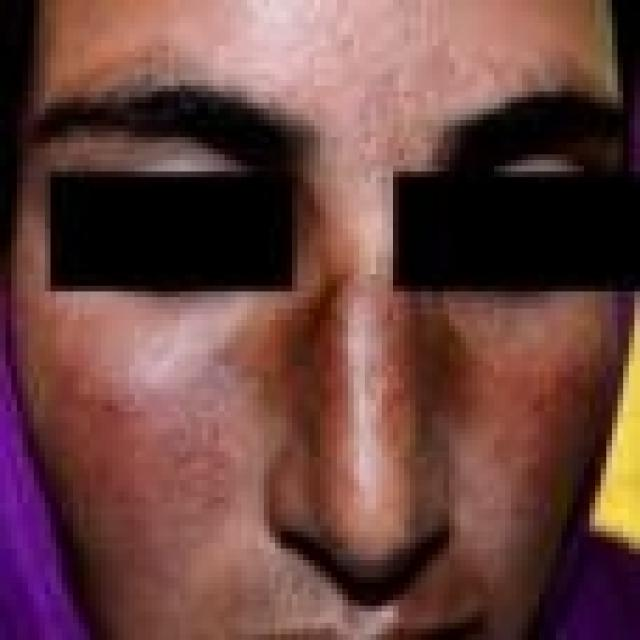Melasma: (25, 374, 238, 615), (249, 289, 489, 444), (499, 340, 615, 604)
